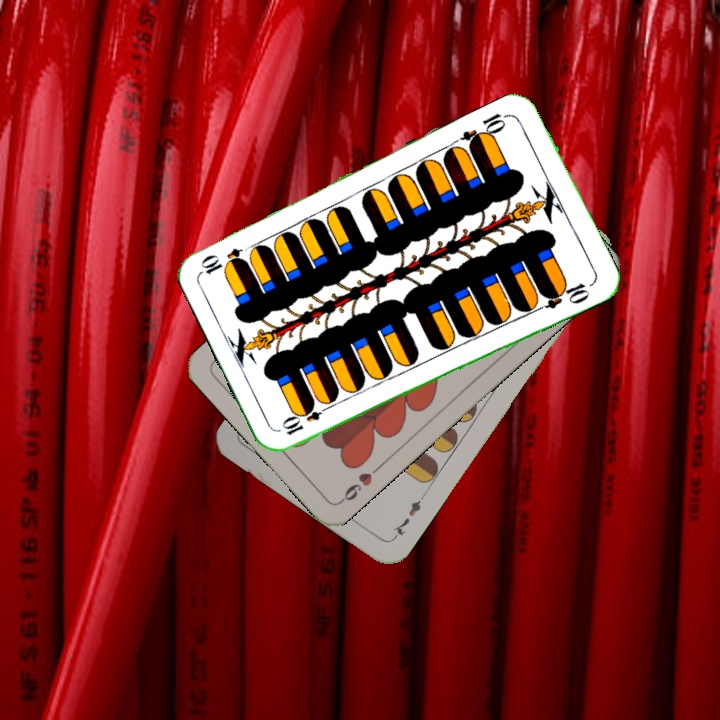E10: (458, 109, 514, 151), (277, 397, 333, 438)
E7: (388, 491, 428, 542)
H9: (335, 462, 383, 506)
